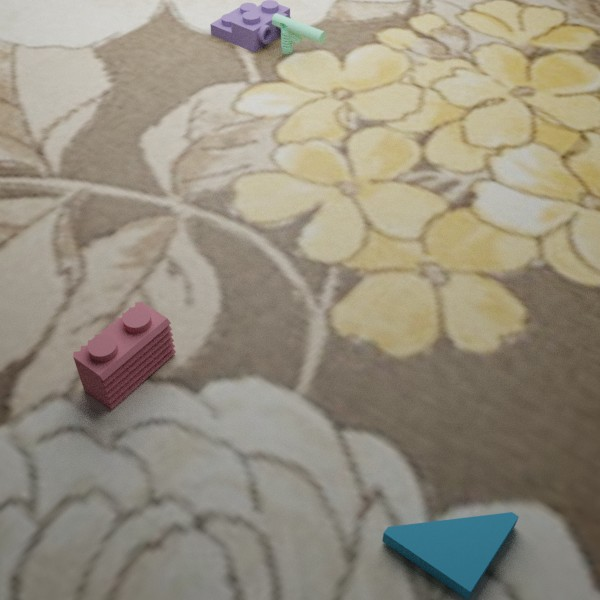lego: (382, 512, 519, 600), (73, 301, 176, 409), (210, 0, 291, 52), (271, 13, 326, 54)
